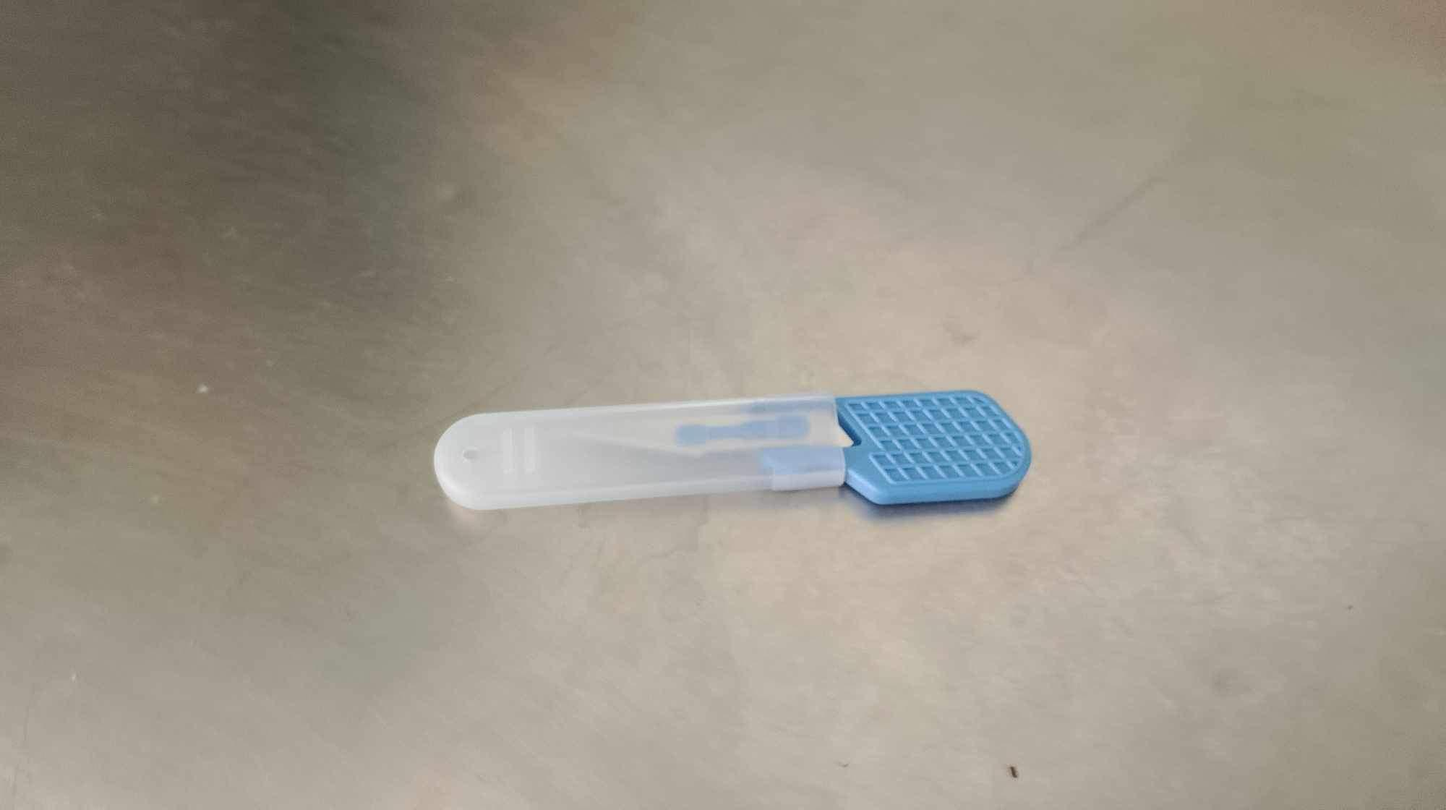General: (6, 5, 1438, 803), (834, 386, 1033, 509)
Sharps: (431, 386, 1032, 512)
